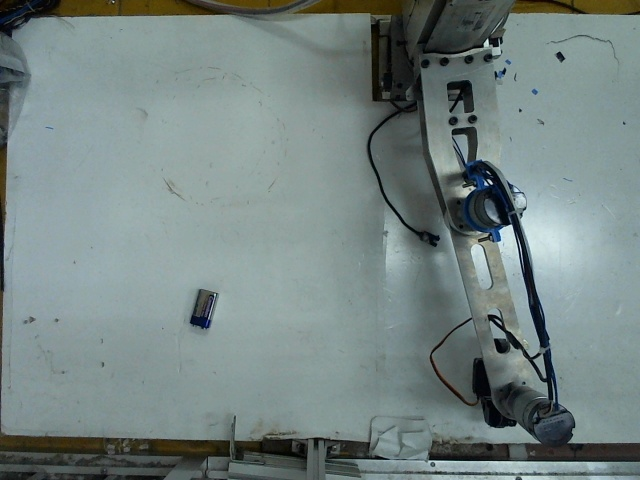battery: (187, 287, 219, 328)
